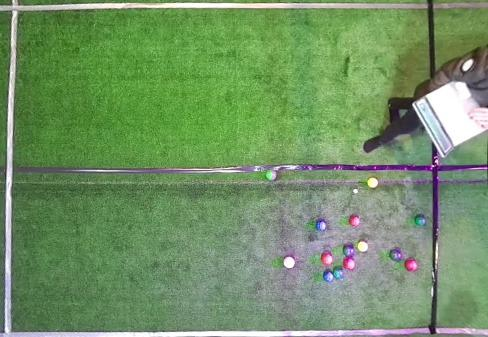blue: (323, 271, 334, 282), (315, 220, 326, 230)
green: (389, 249, 402, 261), (343, 245, 355, 256), (415, 215, 426, 226), (266, 170, 278, 180), (333, 268, 343, 279)
red: (405, 259, 418, 272), (343, 258, 355, 270), (321, 253, 333, 265), (283, 257, 295, 268), (349, 215, 360, 226)
vline: (431, 155, 487, 336), (0, 0, 19, 336), (427, 0, 487, 77)
white: (353, 189, 358, 193)
yellow: (367, 177, 379, 188), (357, 241, 368, 252)
